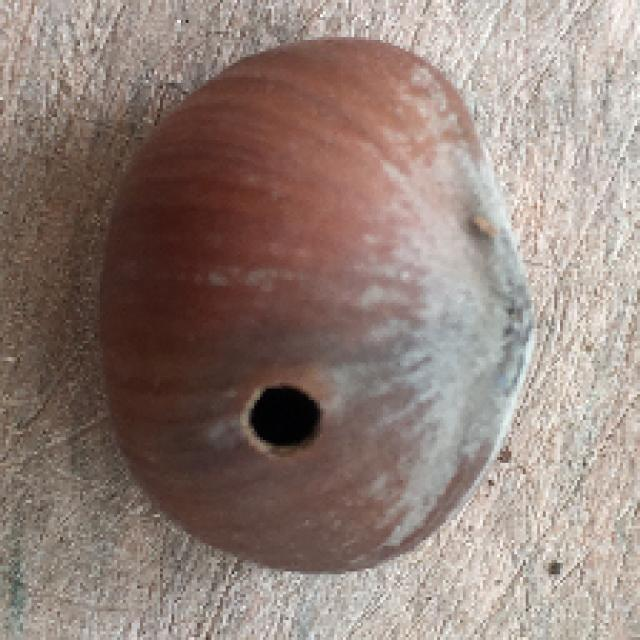DamagedHazelnut: (94, 32, 533, 569)
